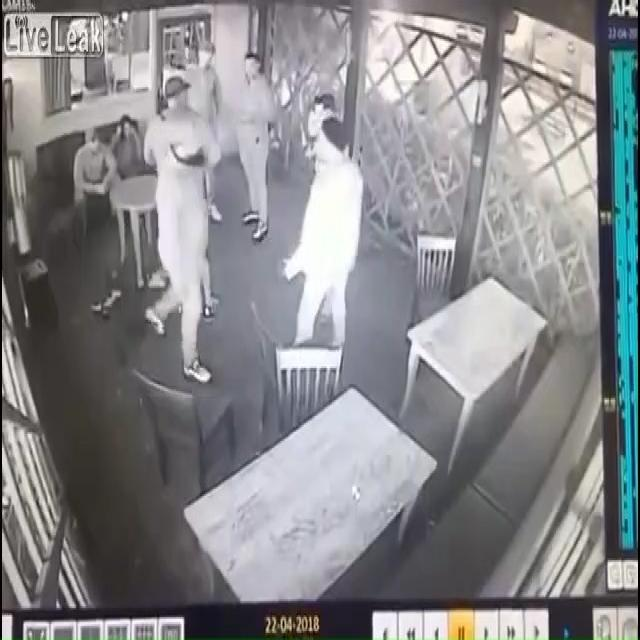fight: (110, 24, 284, 230)
